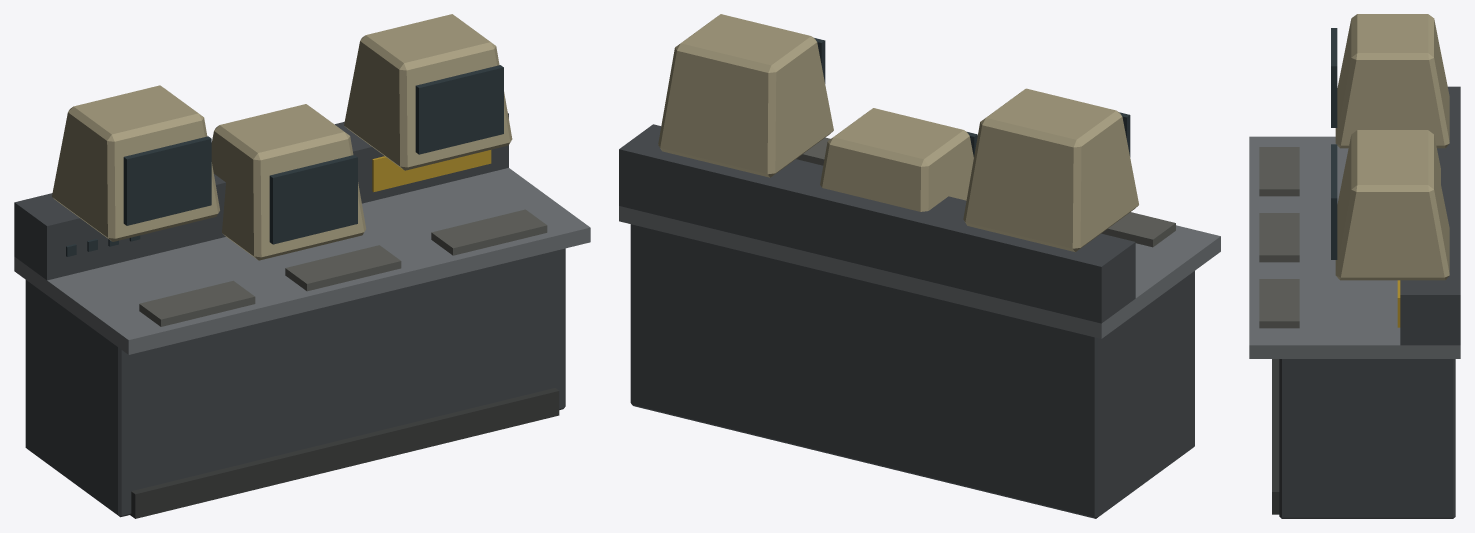
The model's file is terminal_room_console.glb.
3 views of the same model, side by side, from view 1: azimuth 30°, elevation 25°; view 2: azimuth 150°, elevation 25°; view 3: azimuth 270°, elevation 25° (orthographic). The views are drawn at different scales.
Parts seen in each view (by area): view 1: terminal_room_console_mesh; view 2: terminal_room_console_mesh; view 3: terminal_room_console_mesh.
Part boxes in pixels (box(x1,y1,x2,y2)): terminal_room_console_mesh: box(14, 14, 590, 518); terminal_room_console_mesh: box(619, 14, 1220, 518); terminal_room_console_mesh: box(1249, 14, 1460, 518).
Size of the model in its own units: 1.96 by 1.4 by 0.84.
